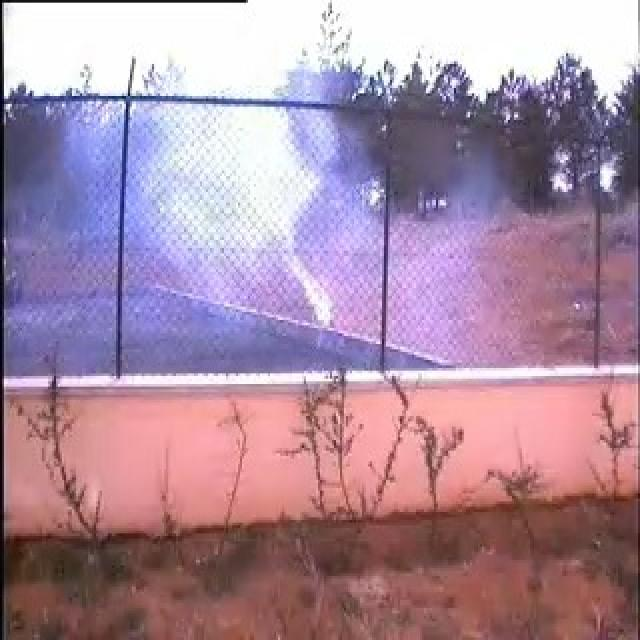smoke: (67, 102, 390, 370)
